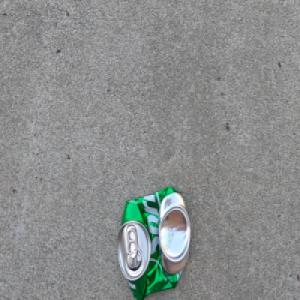SodaCan: (116, 185, 191, 300)
